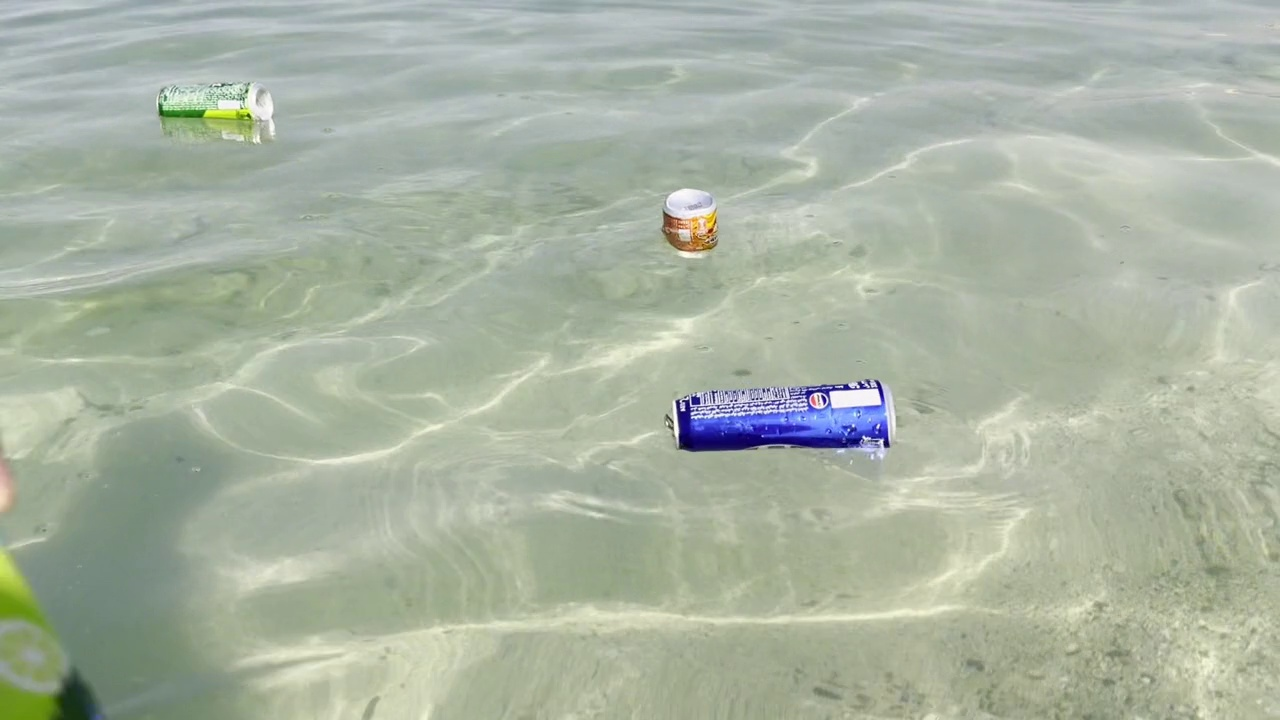debris: (654, 364, 908, 462), (152, 78, 279, 130), (657, 179, 728, 261)
